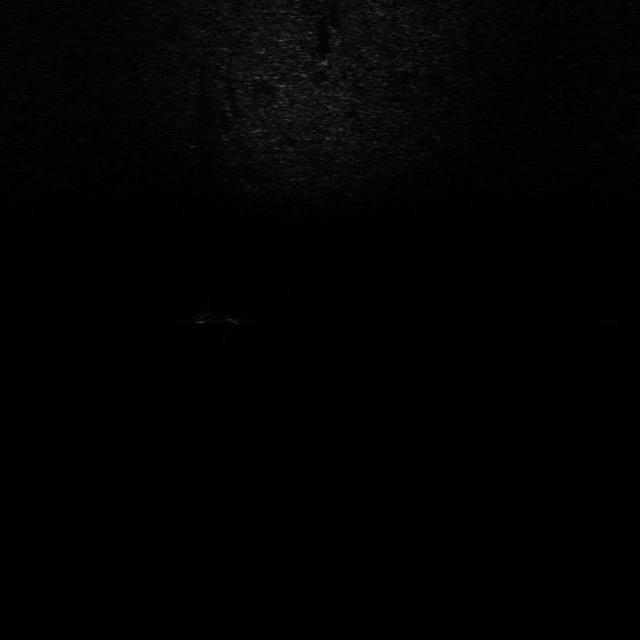human body: (192, 291, 243, 342)
